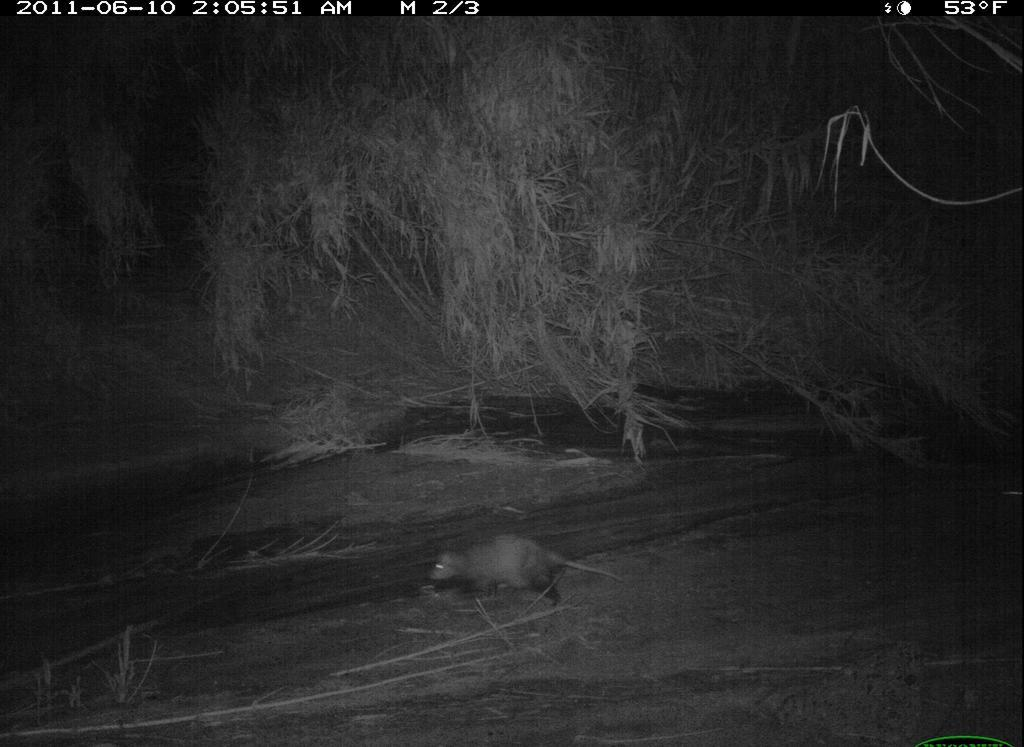opossum: (418, 528, 626, 621)
